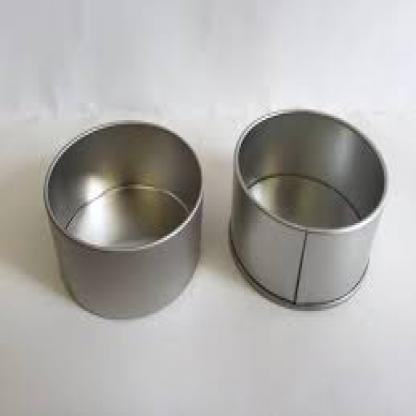Compsot: (227, 107, 387, 307), (42, 118, 201, 317)
